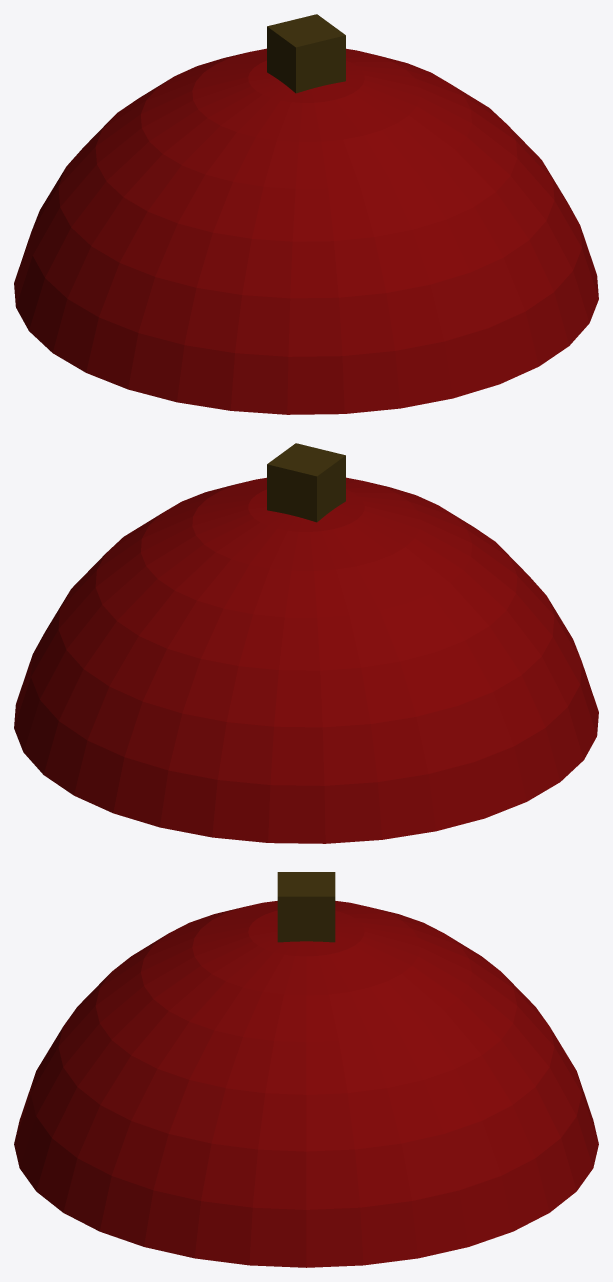
Rendered from Bombhat.glb.
The picture shows the model from 3 angles, top to bottom: view 1: azimuth 30°, elevation 25°; view 2: azimuth 150°, elevation 25°; view 3: azimuth 270°, elevation 25°; orthographic projection.
Parts seen in each view (by area): view 1: Sphere, Cube; view 2: Sphere, Cube; view 3: Sphere, Cube.
Part boxes in pixels (left/top/right/bottom): Sphere: left=14, top=48, right=598, bottom=414; Cube: left=267, top=14, right=345, bottom=93; Sphere: left=14, top=477, right=598, bottom=843; Cube: left=267, top=443, right=345, bottom=522; Sphere: left=14, top=901, right=598, bottom=1267; Cube: left=277, top=872, right=335, bottom=942.
Size of the model in its own units: 1.96 by 0.9616 by 1.96.
